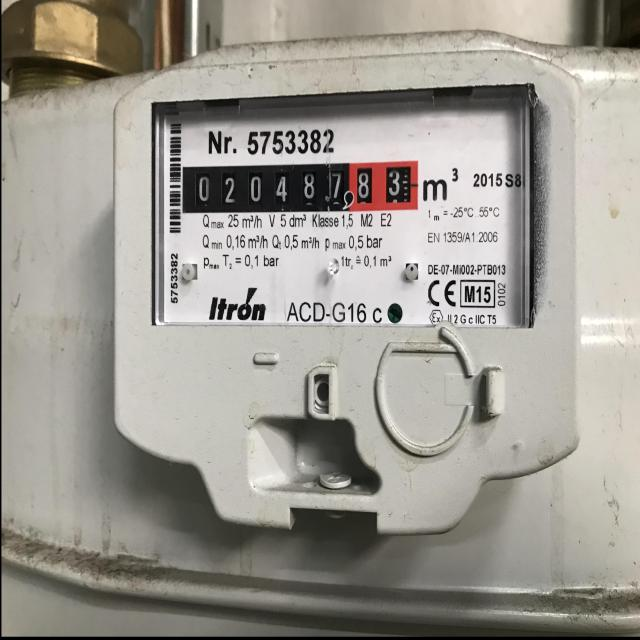gaz_meter: (151, 102, 527, 331)
indication: (184, 160, 420, 216)
